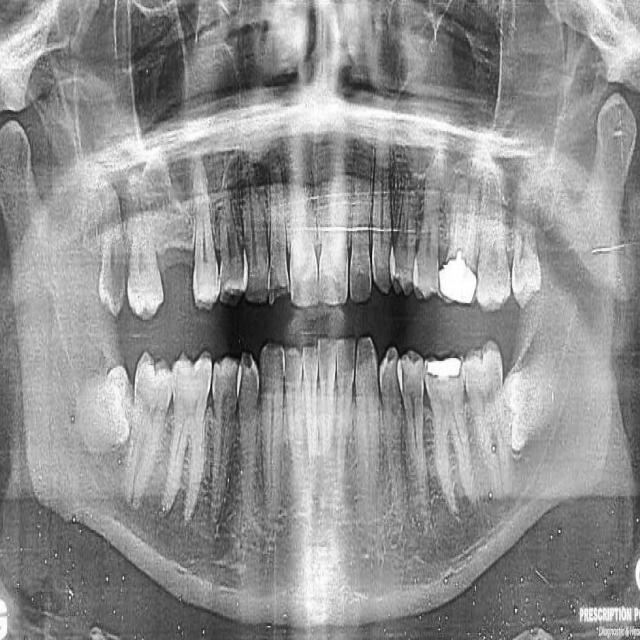karies: (421, 339, 466, 396), (443, 247, 478, 310), (234, 344, 259, 392)
